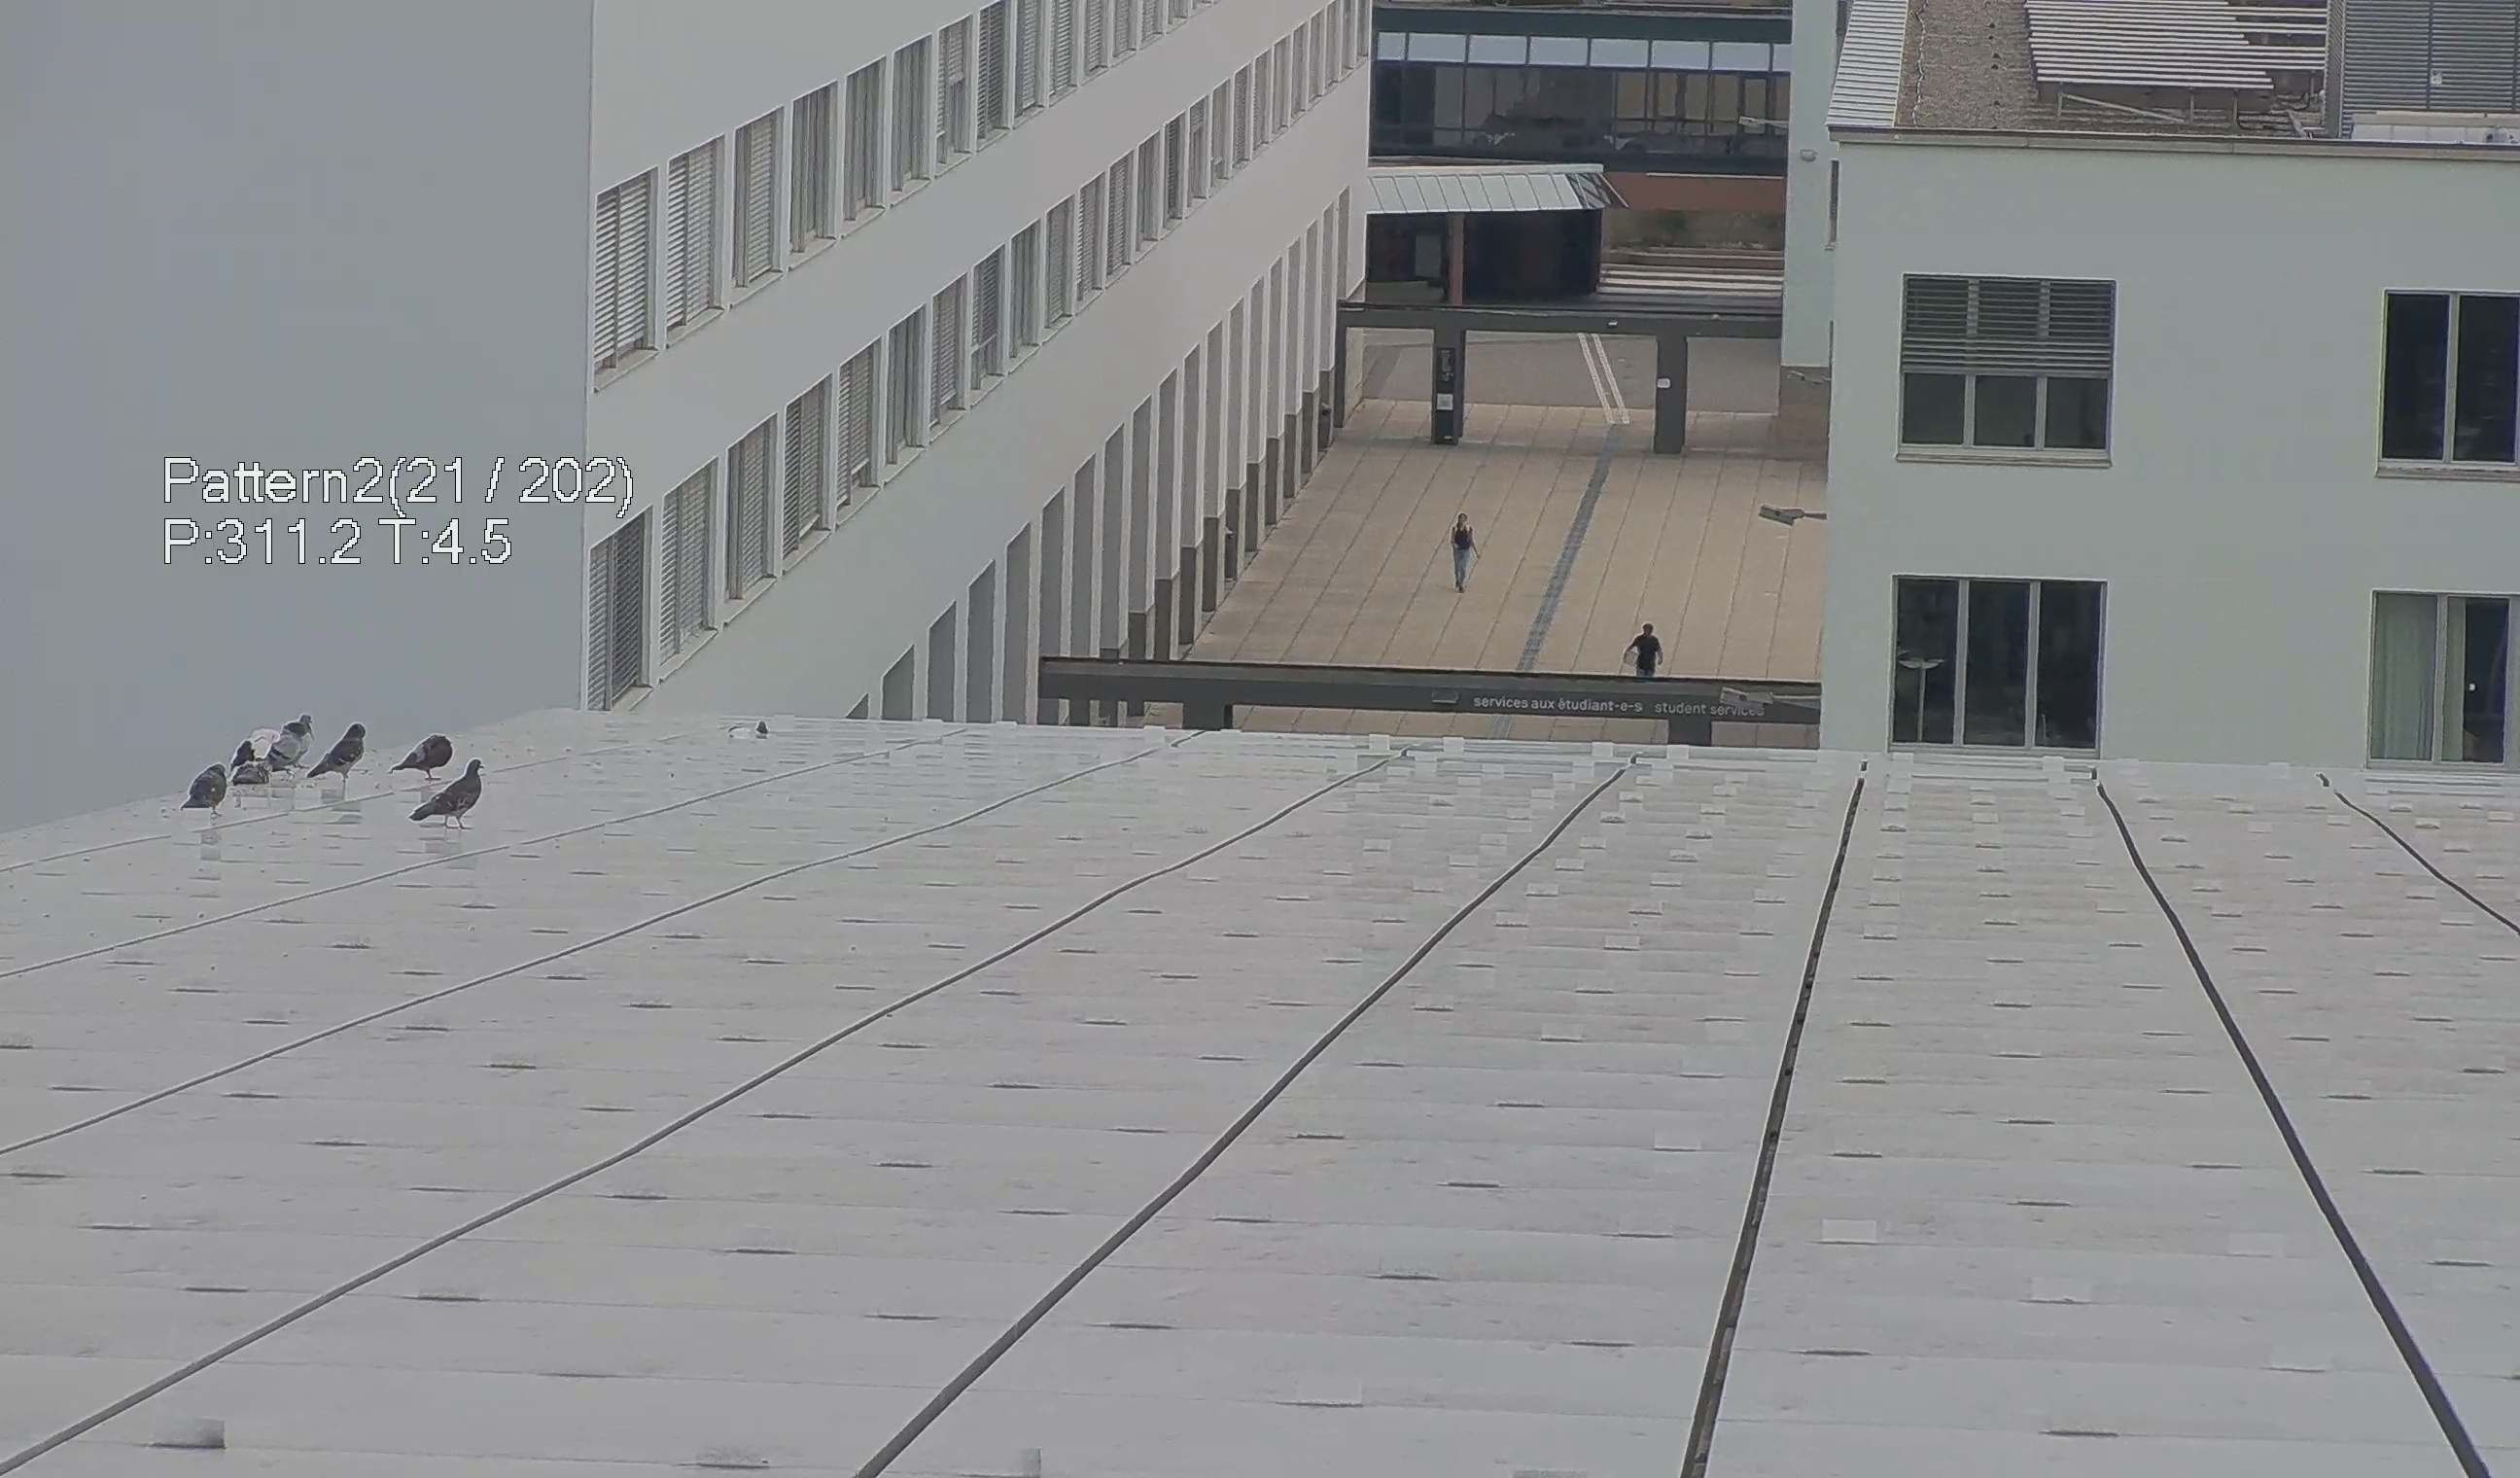Pigeon: (408, 753, 492, 846), (306, 718, 376, 795), (390, 723, 464, 794), (227, 718, 281, 794), (273, 700, 318, 771), (186, 755, 237, 813)
